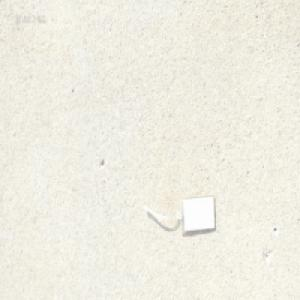LuggageTag: (143, 193, 216, 235)
